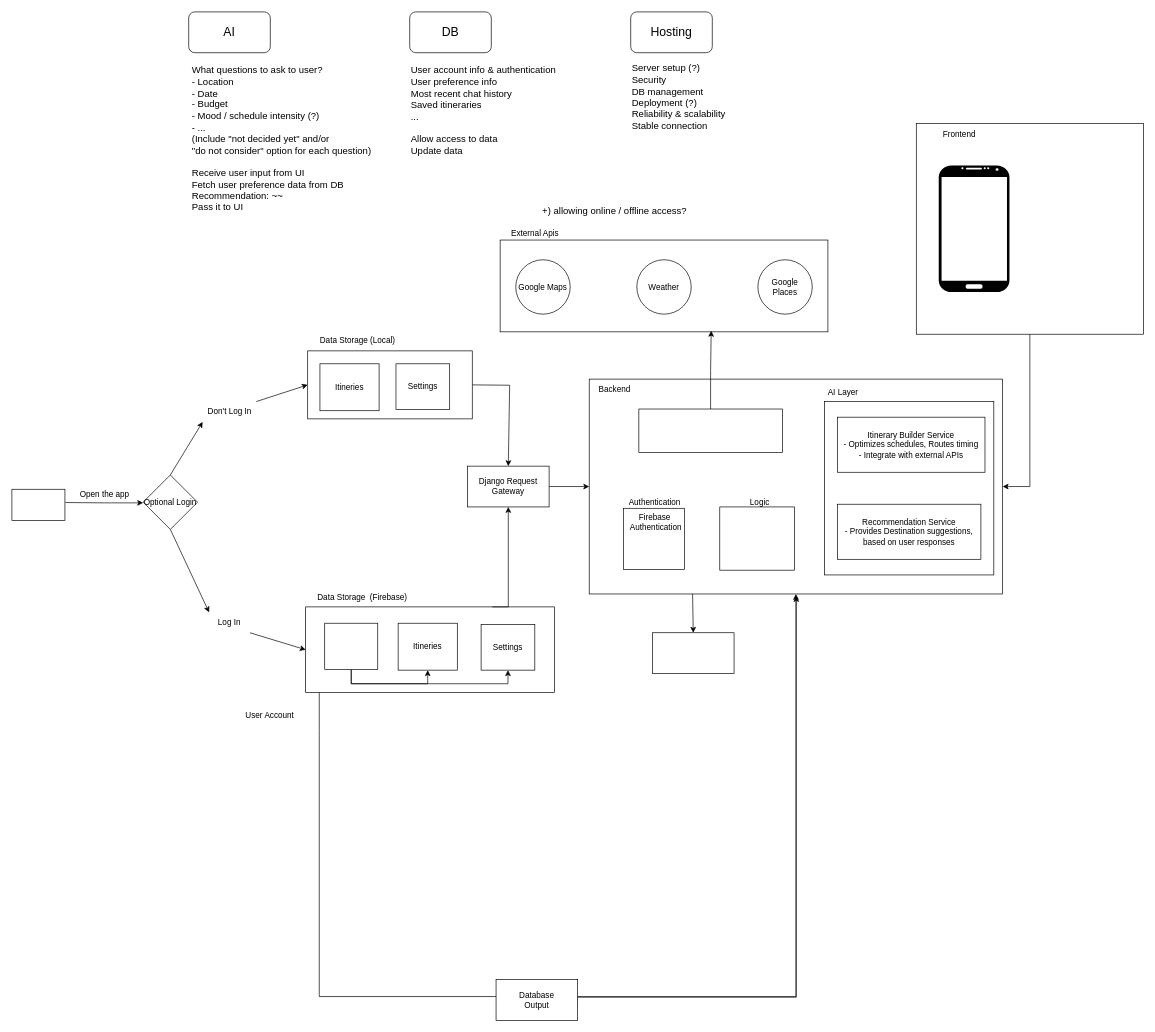
Some shapes in this 1155 by 1032 pixel diagram are drawn without their labels. Each missing label, with the box of its shape:
- User login -Registration: (623, 508, 684, 570)
Accounts: (324, 623, 378, 669)
Data Aggregation - Fetch data from external APIs: (638, 408, 782, 453)
Generated User Data: (652, 632, 734, 674)
Text: (719, 506, 795, 570)
User: (11, 489, 65, 521)
User Interface (Jetpack Compose): (938, 165, 1009, 292)
